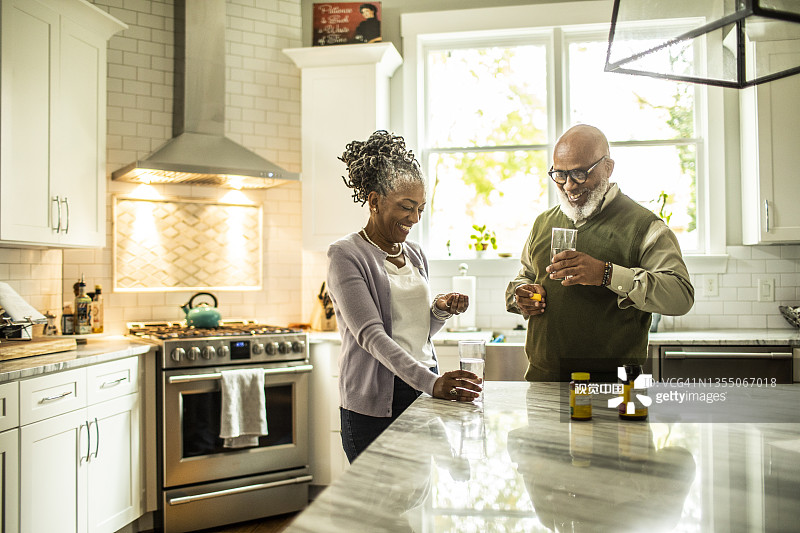no-phone: (539, 233, 618, 290), (427, 360, 492, 406), (505, 275, 557, 328), (428, 283, 482, 322)
